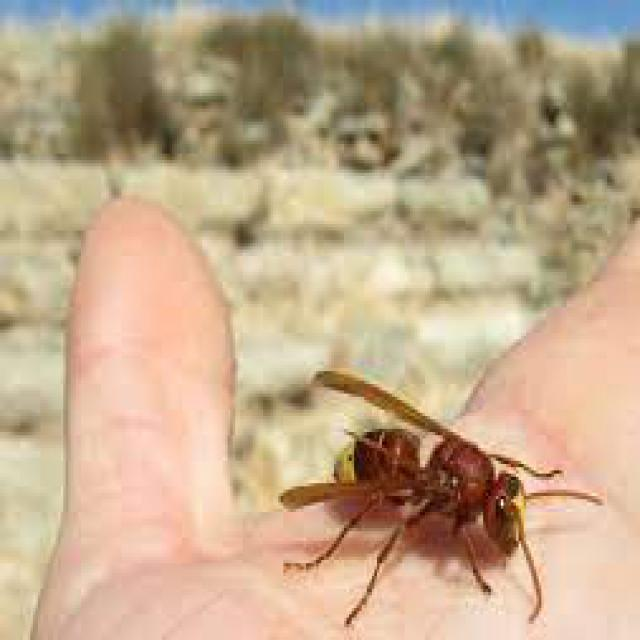Vespa Orientalis: (268, 357, 618, 638)
